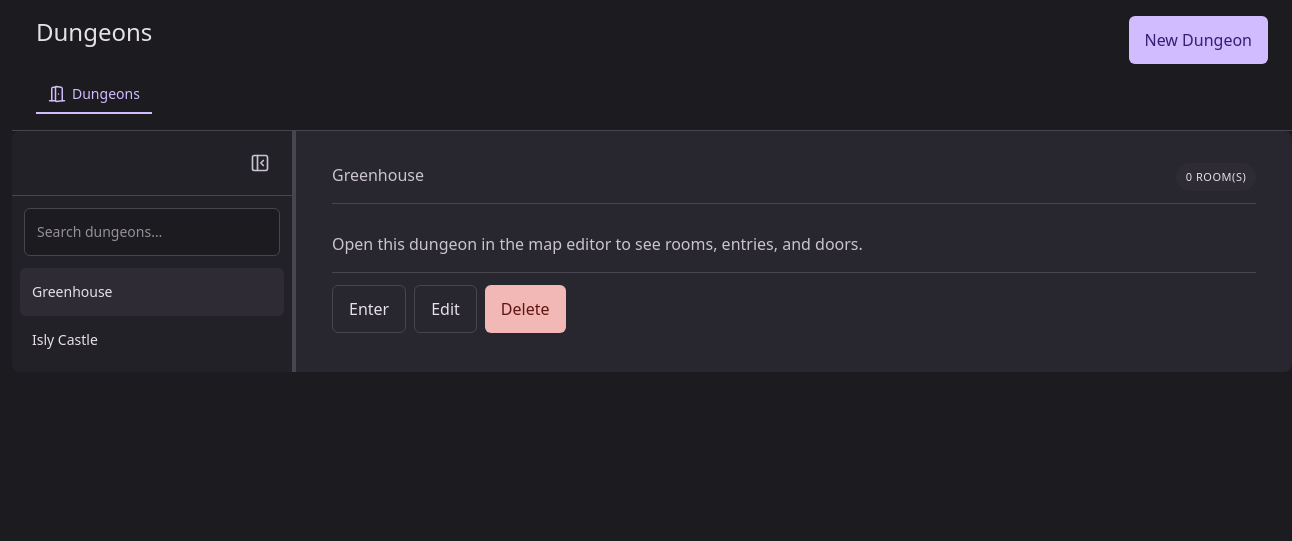
DungeonBrowserPage › shows a create error without navigating
Click the button "New Dungeon": (1198, 40) x1=1128 y1=16 x2=1268 y2=64
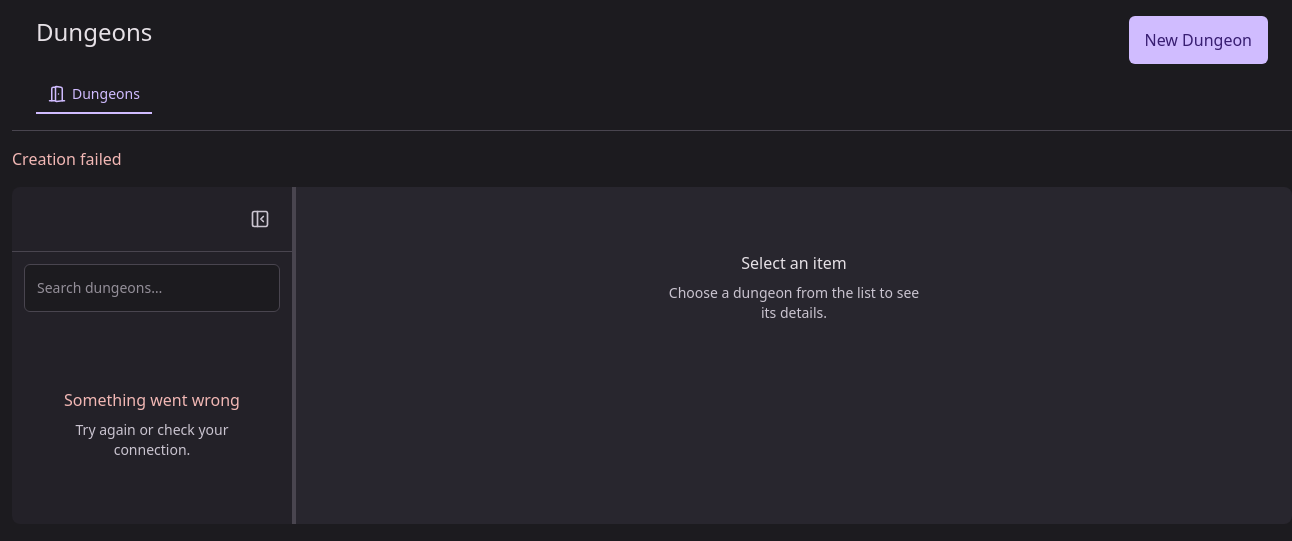
Check: the text "Creation failed" is shown, box x1=12 y1=148 x2=122 y2=170
